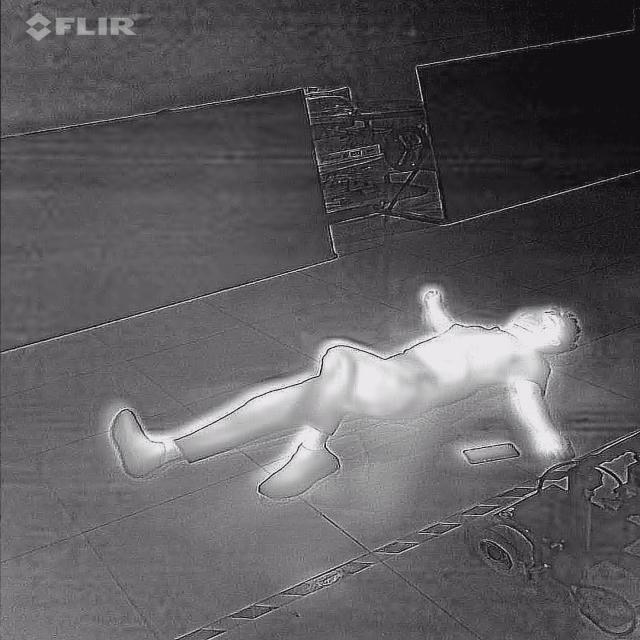Victim: (99, 279, 592, 496)
